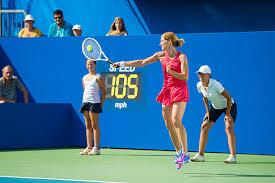ball_tennis: (87, 45, 92, 52)
